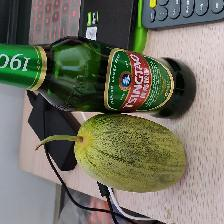gua: (36, 116, 197, 188)
